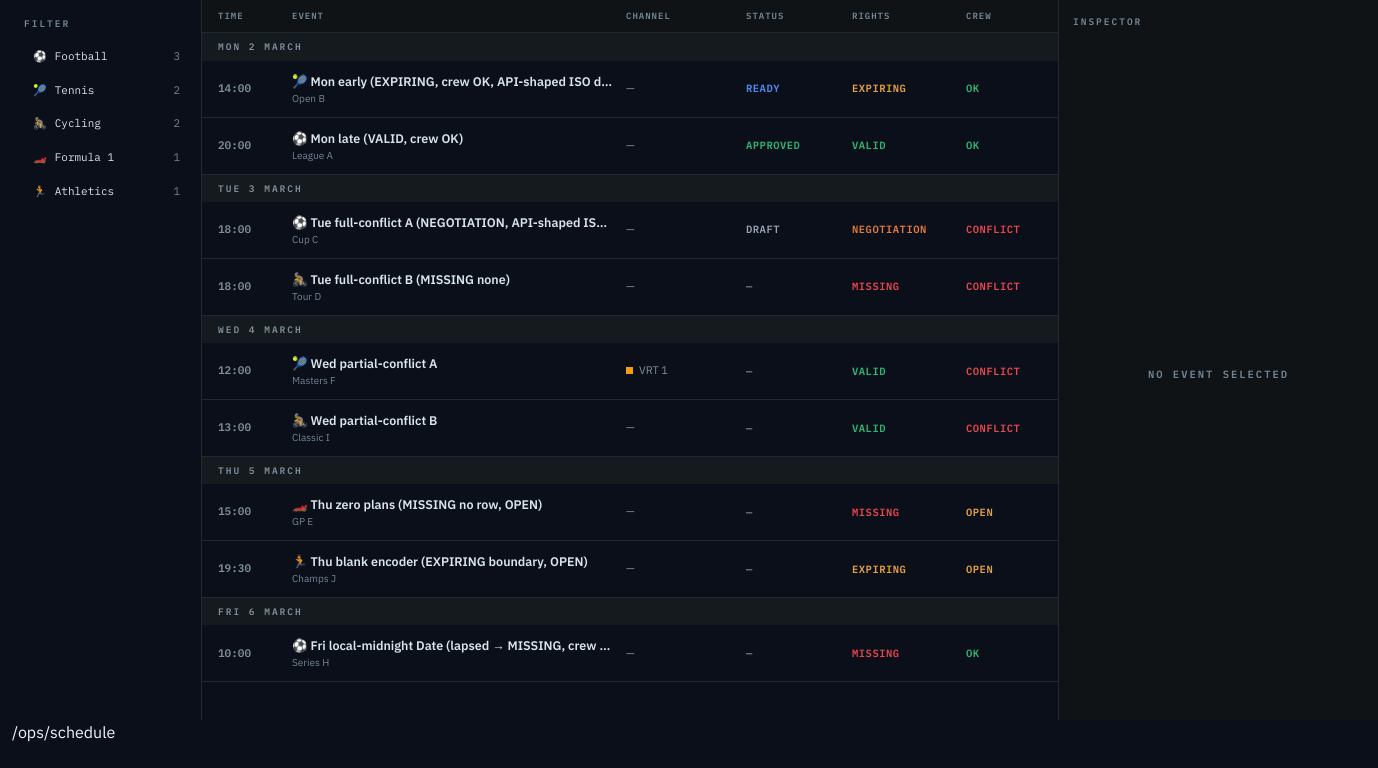
Scenario: sport facets › facet click filters rows to that sport; counts stay unfiltered; active facet is marked
Click the button "⚽ Football 3": click(106, 57) [24, 41, 189, 73]
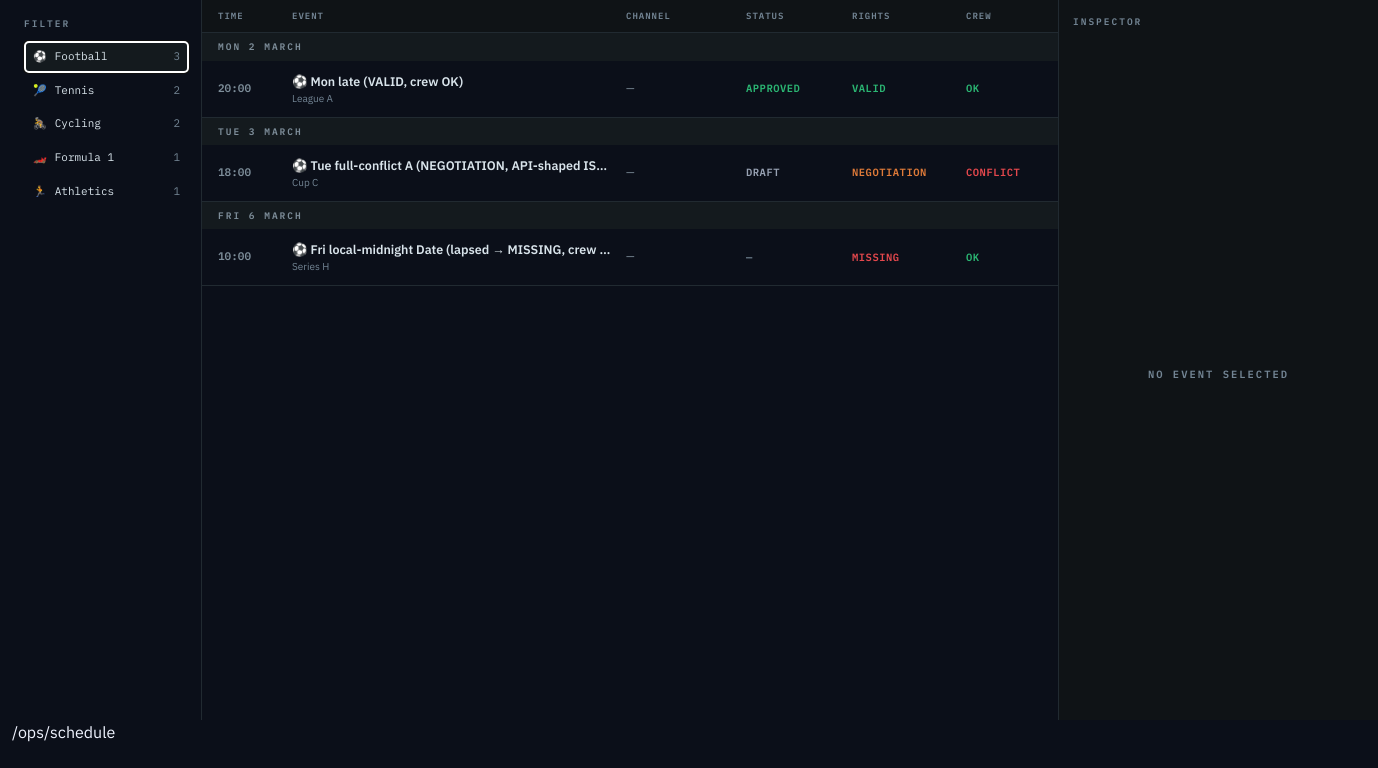
Expected: the button "🎾 Tennis 2" is shown, [24, 75, 189, 106]
Expected: the text "THU 5 MARCH" is gone
